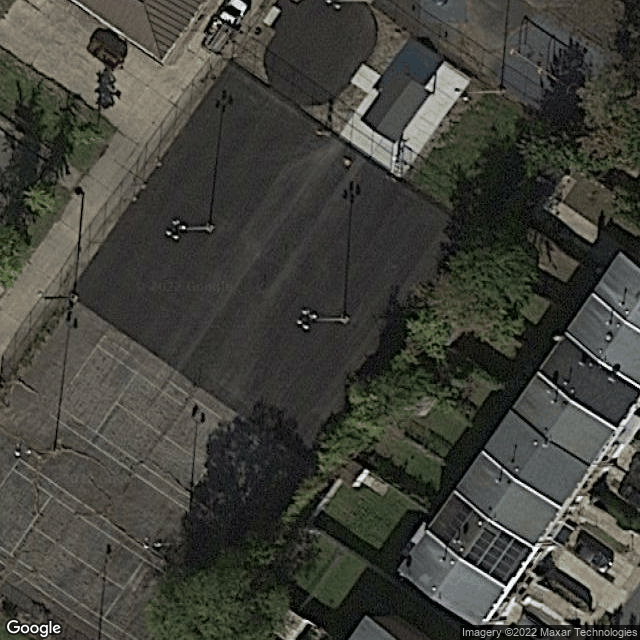Court: (48, 334, 279, 535), (1, 451, 194, 640)
